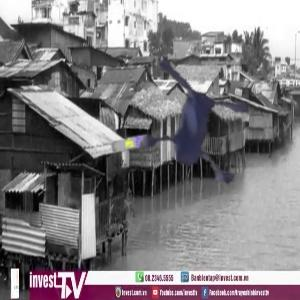drone: (76, 27, 275, 226)
